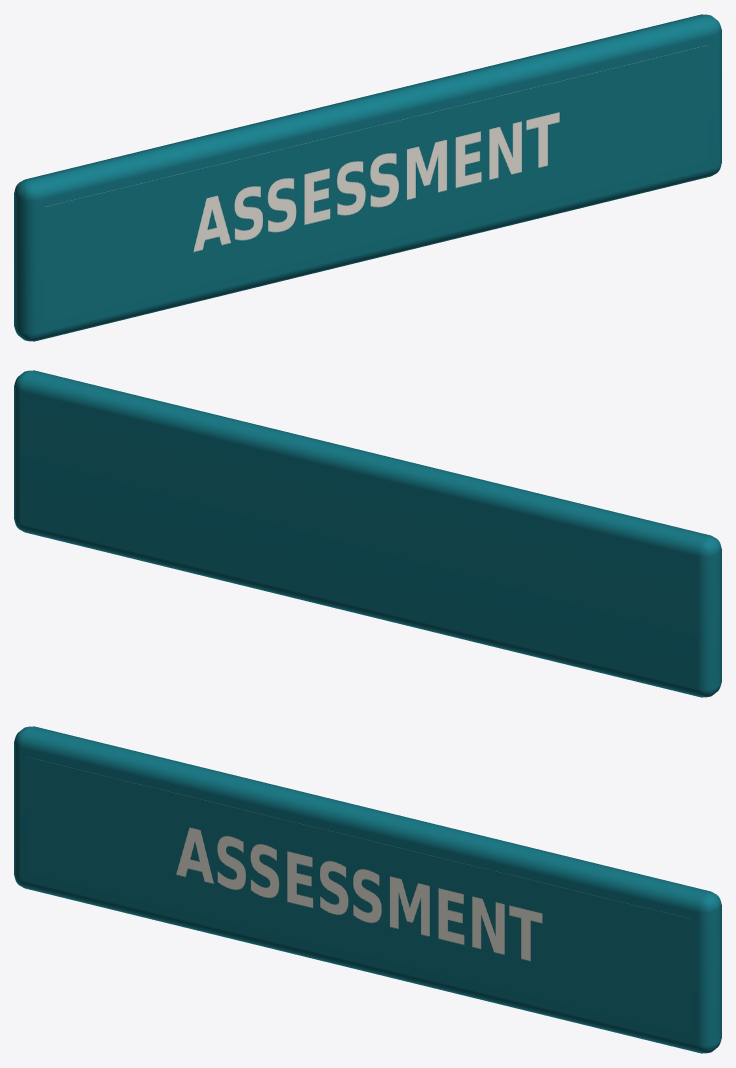
File: Assessment_Sign.glb
3 renders of one model, top to bottom at view 1: azimuth 30°, elevation 25°; view 2: azimuth 150°, elevation 25°; view 3: azimuth 330°, elevation 25°, orthographic.
Parts seen in each view (by area): view 1: Assessment_Sign__Graphics, Assessment_Sign__Visual; view 2: Assessment_Sign__Visual; view 3: Assessment_Sign__Graphics, Assessment_Sign__Visual.
Part boxes in pixels (left/top/right/bottom): Assessment_Sign__Graphics: left=44, top=45, right=708, bottom=323; Assessment_Sign__Visual: left=14, top=14, right=721, bottom=341; Assessment_Sign__Visual: left=14, top=370, right=721, bottom=697; Assessment_Sign__Graphics: left=27, top=757, right=691, bottom=1035; Assessment_Sign__Visual: left=14, top=726, right=721, bottom=1053.
Size of the model in its own units: 1.67 by 0.36 by 0.0704.
Materials: 2 (2 with a texture image).
